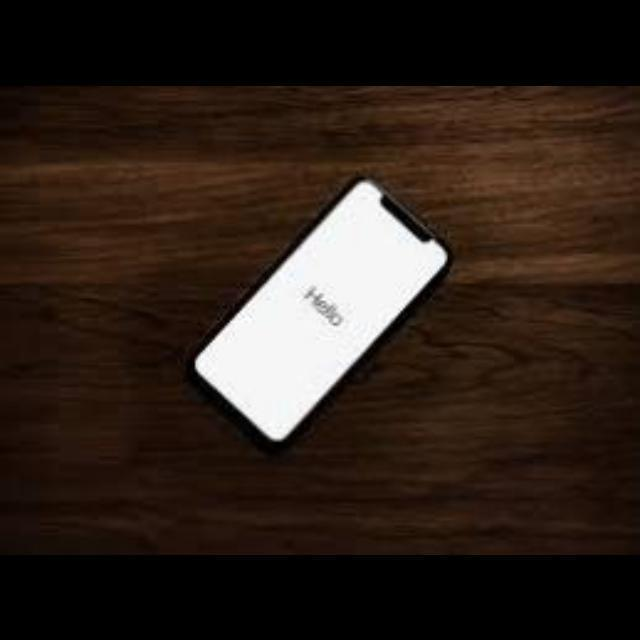PhoneUse: (173, 172, 459, 442)
